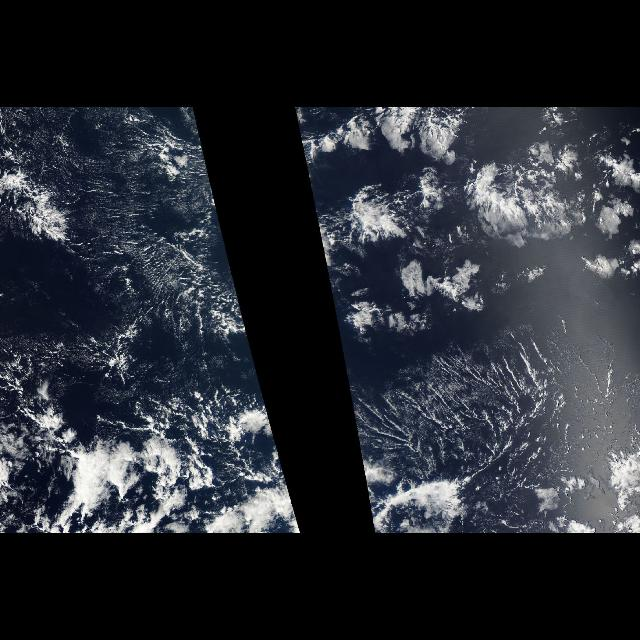Fish: (9, 344, 277, 526)
Flower: (306, 107, 636, 335)
Sugar: (68, 110, 248, 342), (350, 345, 590, 471)
